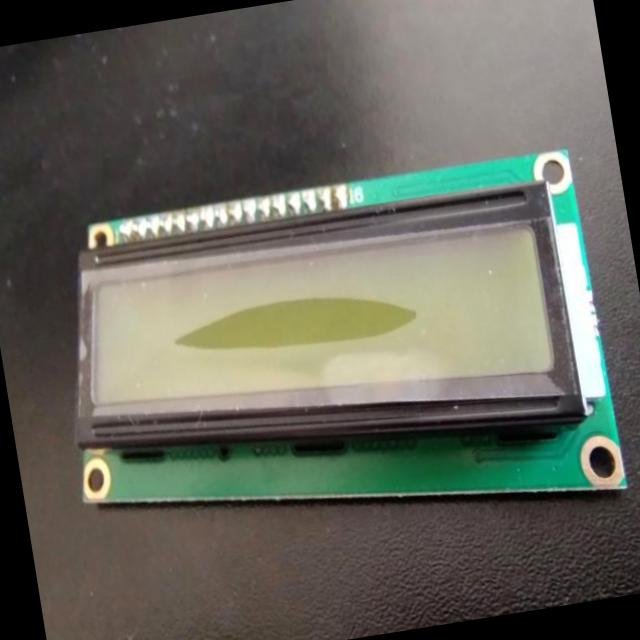lcd: (38, 143, 630, 574)
